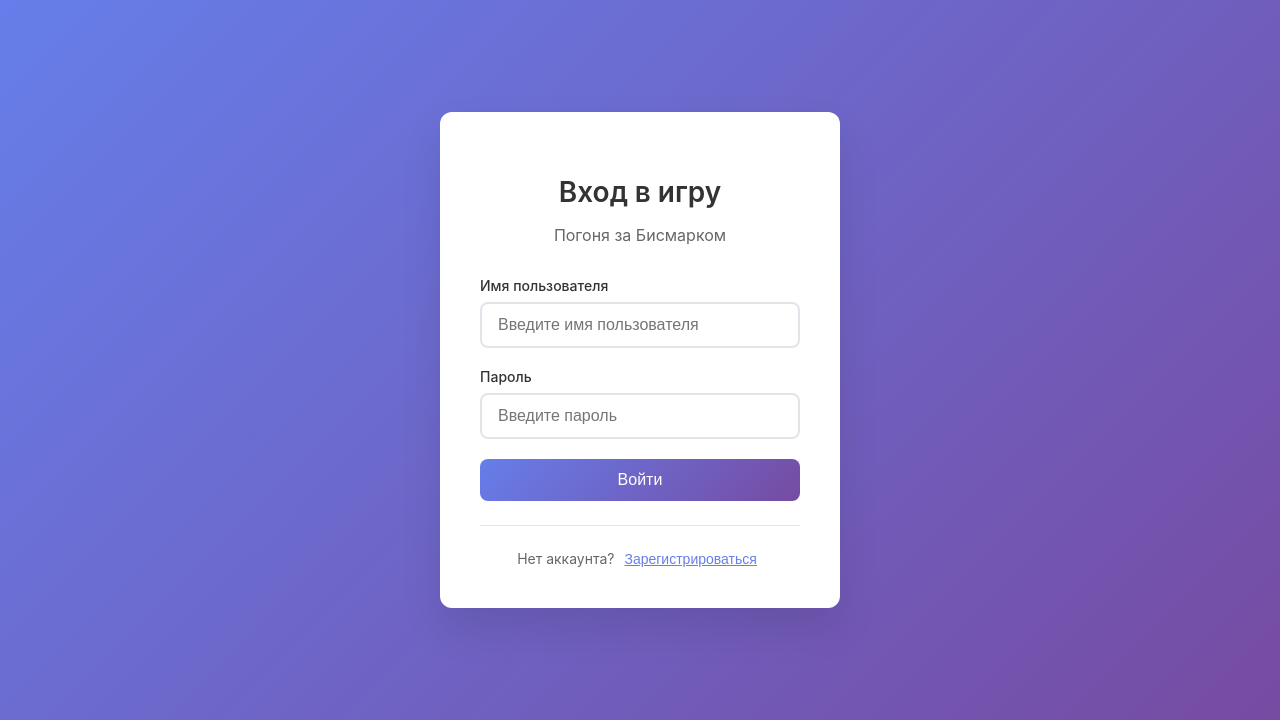
LoginForm › Validation › should show error when username is empty
The image size is (1280, 720).
Step 1. Click the button "Войти" → click(640, 480), box [480,459,800,501]
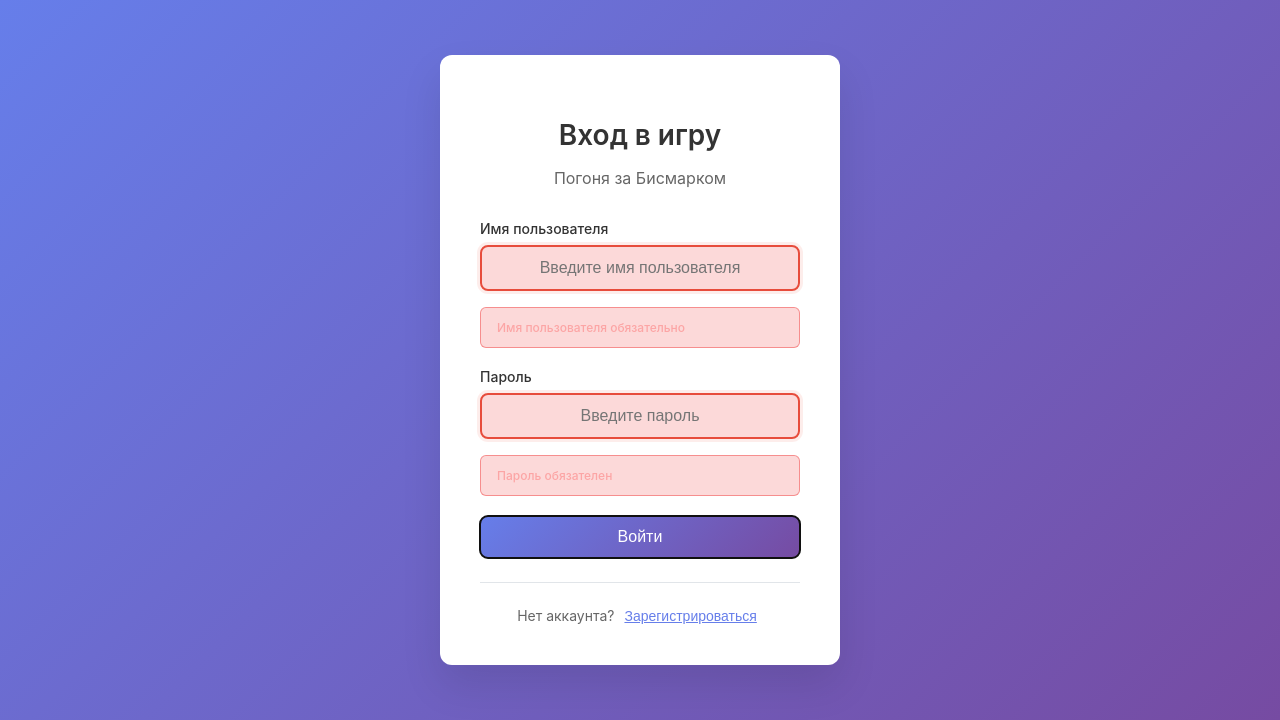
Now the text "Имя пользователя обязательно" is shown, box [480,307,800,348]
